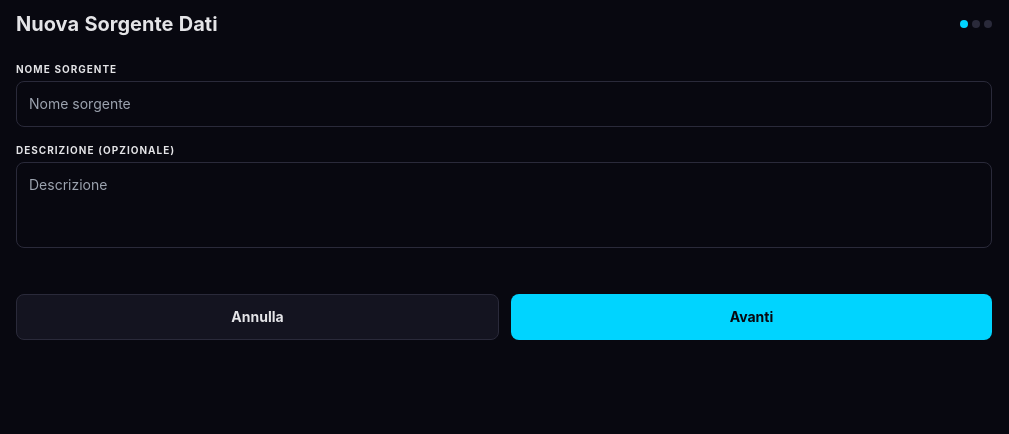
Scenario: DataSourceFormSlideOver › advances to step 3 with next after mode selection
This screenshot has width=1009, height=434.
Type "Test Source" into the field labelled "Nome Sorgente" at (504, 104), box [16, 81, 992, 127]
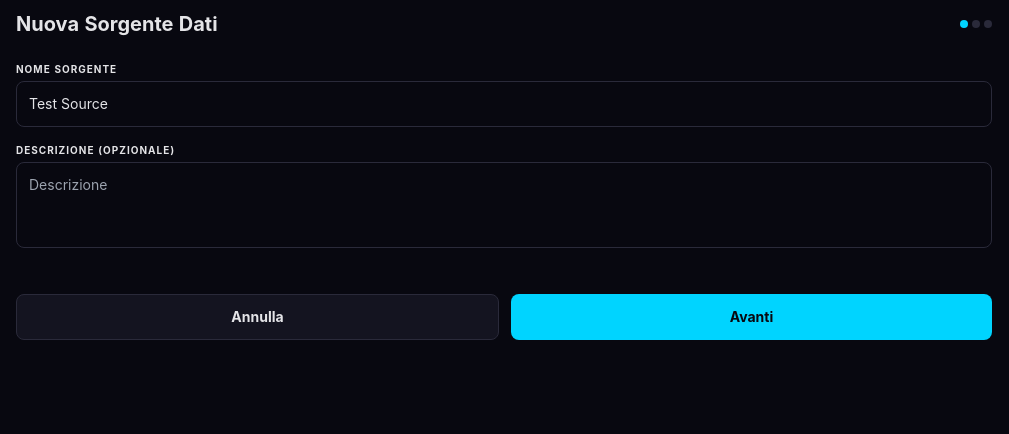
Click the button "Avanti" at (752, 317), box [511, 294, 992, 340]
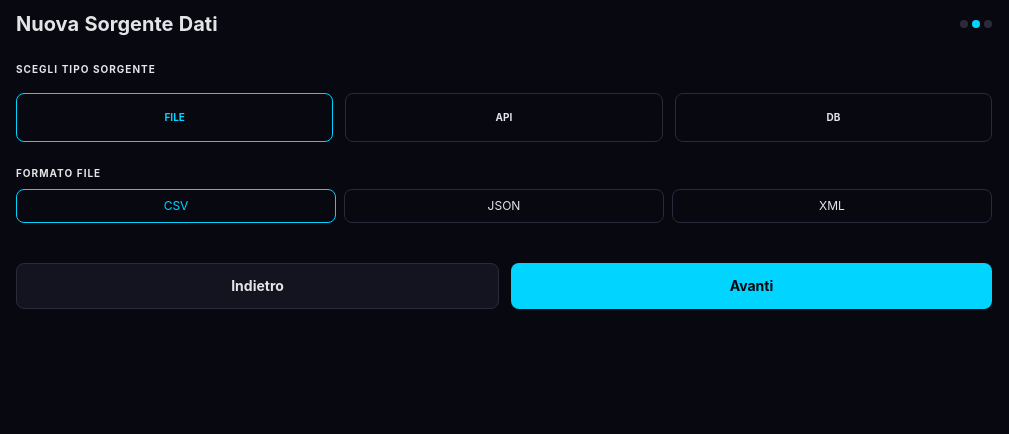
Click the button "Avanti" at (752, 286), box [511, 263, 992, 309]
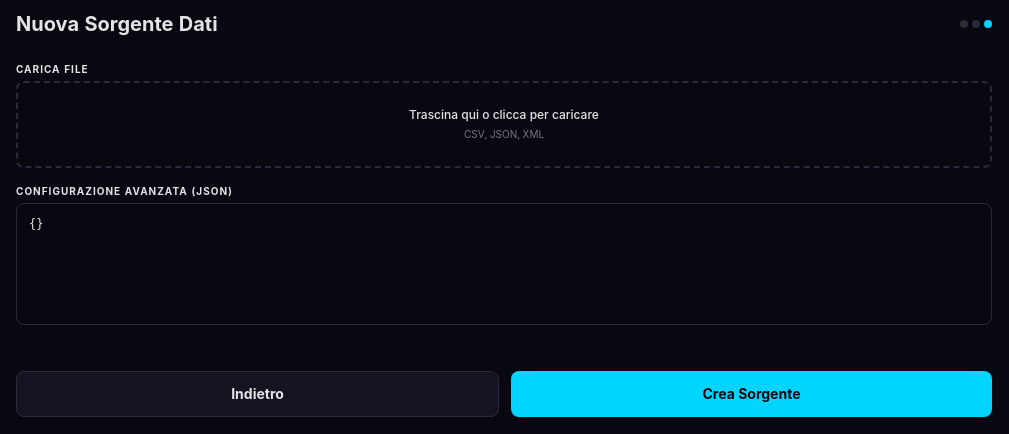
Now the text box labelled "Configurazione Avanzata (JSON)" is shown, box [16, 203, 992, 325]
